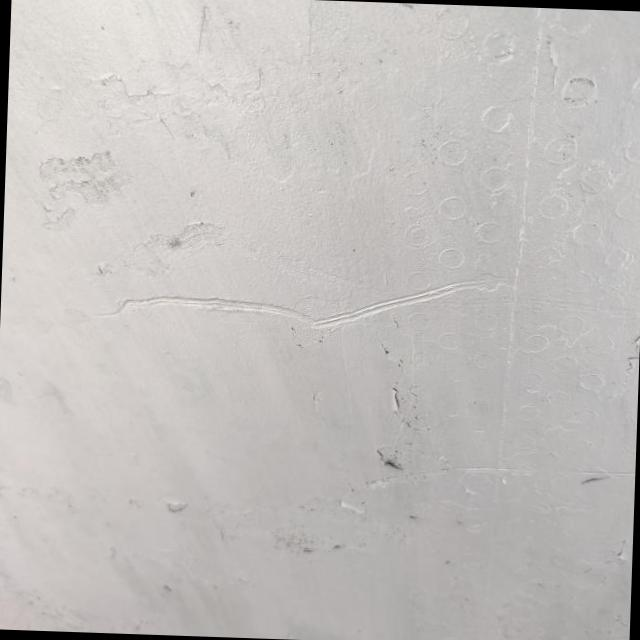Scratch: (103, 278, 506, 330)
